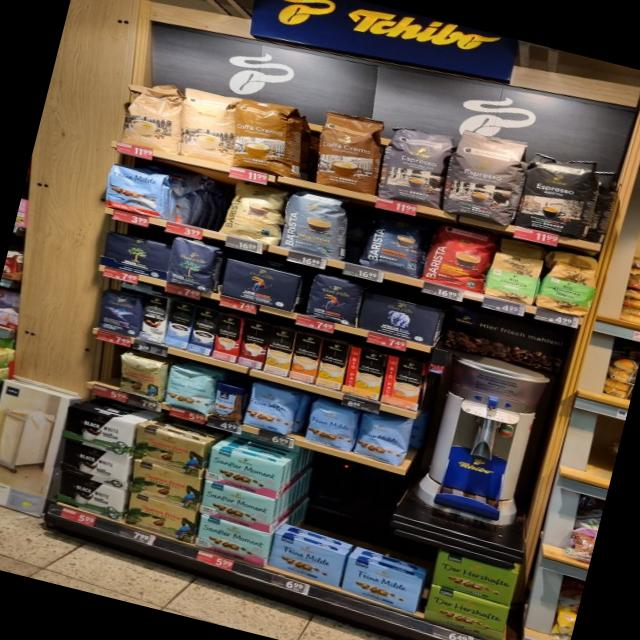AB Gemahlen: (354, 288, 443, 347)
Athiopien Bohne: (532, 258, 603, 319)
Athiopien Gemahlen: (478, 251, 547, 307)
BM Gemahlen: (60, 405, 135, 457), (58, 438, 130, 490), (54, 471, 126, 523)
BW Bohne: (162, 234, 227, 294)
BW Gemahlen: (97, 229, 171, 279)
Barista CB: (213, 176, 291, 247)
Barista CC: (277, 187, 354, 262)
Barista Espresso: (357, 208, 435, 279)
Barista Kolumbien: (416, 219, 501, 294)
C Fino Bohne: (93, 287, 145, 337)
CC Mild: (114, 74, 187, 156), (177, 86, 243, 166)
CC Vollmundig 36 Pads: (310, 107, 387, 195), (229, 95, 303, 177)
Colombia BB Bohne: (115, 351, 169, 403)
Colombia BB Gemahlen: (130, 423, 206, 477), (122, 492, 198, 543), (128, 459, 202, 511)
Empty Shelf: (297, 455, 395, 522), (348, 522, 437, 578), (162, 166, 234, 232), (275, 499, 363, 553), (80, 343, 124, 389)
Espresso Aromatisch: (437, 125, 531, 229), (374, 120, 459, 210)
Espresso Kraftig: (510, 145, 605, 242)
FM 36 Pads: (98, 159, 176, 220)
FM Bohne: (349, 411, 410, 468), (302, 398, 362, 453), (241, 381, 300, 436)
FM Gemahlen: (340, 556, 424, 614), (267, 532, 346, 589)
FM Instant: (208, 380, 247, 424)
Herzhatfe Mundig: (423, 583, 509, 640), (431, 550, 518, 606)
LG Bohne: (299, 270, 366, 328)
LG Gemahlen: (214, 255, 303, 313)
SM Bohne: (160, 364, 218, 416)
SM Gemahlen: (203, 446, 283, 499), (198, 480, 276, 533), (193, 514, 270, 565)
Simo CCMild: (342, 345, 388, 400)
Simo CCMild bigpack: (314, 338, 351, 390)
Simo CCVollmundig: (380, 355, 425, 410)
Simo CCVollmundig bigpack: (287, 331, 325, 383)
Simo Decaff: (262, 324, 297, 377)
Simo Es Brazil: (210, 311, 244, 364)
Simo Es Caramel: (235, 317, 273, 370)
Simo Es Elegant: (137, 292, 169, 343)
Simo Es Kraft: (184, 305, 220, 357)
Simo Es Vanilla: (162, 298, 198, 349)
